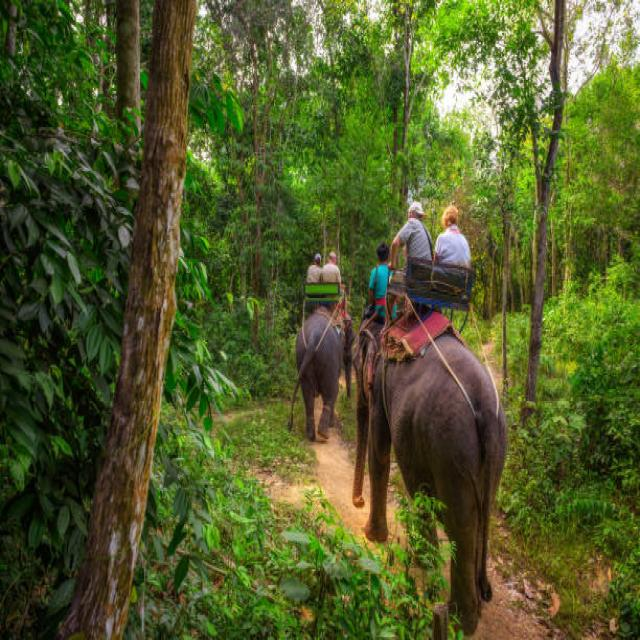Elephant: (351, 314, 506, 626), (291, 297, 342, 464)
